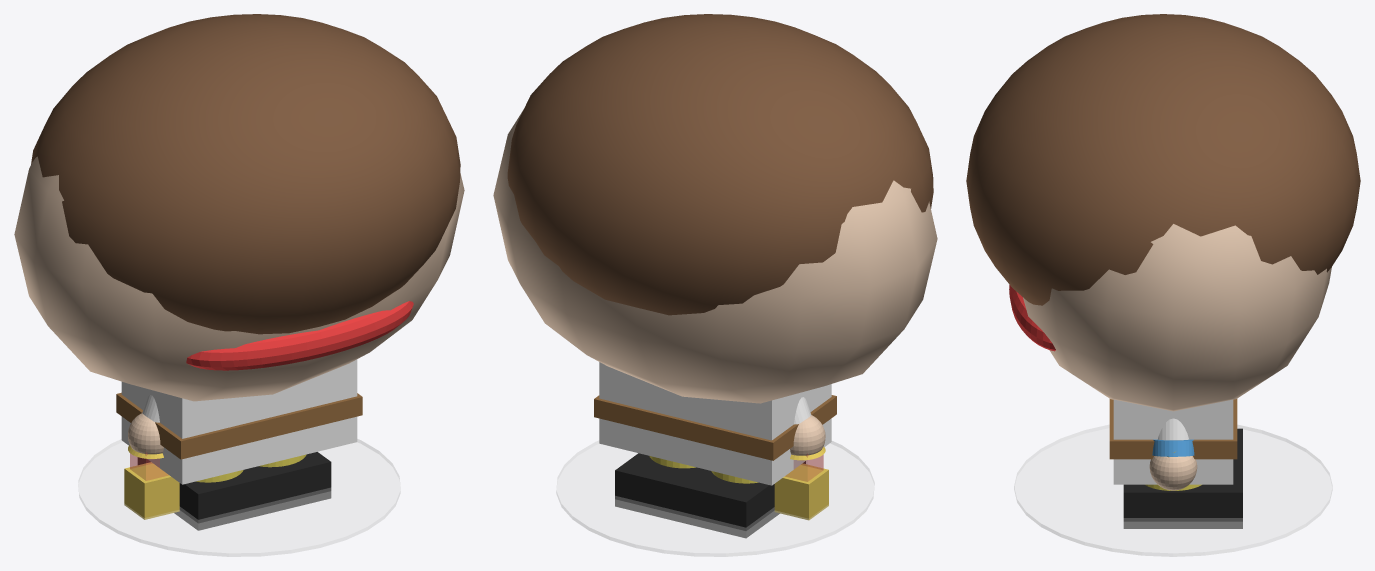
The model's file is custom_funko_pop.glb.
3 renders of one model, left to right at view 1: azimuth 30°, elevation 25°; view 2: azimuth 150°, elevation 25°; view 3: azimuth 270°, elevation 25°, orthographic.
Parts seen in each view (by area): view 1: Sphere, Cube, Cylinder.010, Cube.003, Torus, Cube.004, Cube.006, Cube.007, Cube.008, Sphere.006, Cube.009; view 2: Sphere, Cube, Cylinder.010, Cube.003, Cube.006, Cube.004, Cube.007, Cube.008, Sphere.006, Cube.009; view 3: Sphere, Cube, Cylinder.010, Cube.003, Cube.007, Cube.004, Sphere.007, Torus, Cylinder.008, Cylinder.007.
Part boxes in pixels (left/top/right/bottom): Sphere: left=31, top=14, right=460, bottom=334; Cube: left=14, top=156, right=464, bottom=401; Cylinder.010: left=78, top=439, right=400, bottom=556; Cube.003: left=121, top=359, right=357, bottom=484; Torus: left=186, top=301, right=413, bottom=370; Cube.004: left=116, top=392, right=362, bottom=459; Cube.006: left=137, top=457, right=268, bottom=530; Cube.007: left=248, top=452, right=331, bottom=514; Cube.008: left=124, top=462, right=179, bottom=519; Sphere.006: left=128, top=413, right=163, bottom=459; Cube.009: left=130, top=452, right=168, bottom=480; Sphere: left=507, top=14, right=933, bottom=315; Cube: left=493, top=109, right=937, bottom=403; Cylinder.010: left=556, top=440, right=874, bottom=556; Cube.003: left=599, top=362, right=831, bottom=485; Cube.006: left=677, top=461, right=805, bottom=538; Cube.004: left=594, top=395, right=836, bottom=460; Cube.007: left=615, top=453, right=705, bottom=521; Cube.008: left=774, top=463, right=828, bottom=520; Sphere.006: left=790, top=415, right=825, bottom=460; Cube.009: left=785, top=453, right=823, bottom=481; Sphere: left=966, top=14, right=1360, bottom=305; Cube: left=1023, top=224, right=1331, bottom=411; Cylinder.010: left=1014, top=425, right=1332, bottom=556; Cube.003: left=1113, top=399, right=1233, bottom=484; Cube.007: left=1123, top=459, right=1242, bottom=528; Cube.004: left=1109, top=399, right=1237, bottom=459; Sphere.007: left=1149, top=456, right=1197, bottom=490; Torus: left=1009, top=285, right=1055, bottom=351; Cylinder.008: left=1152, top=439, right=1194, bottom=456; Cylinder.007: left=1157, top=418, right=1189, bottom=440.
Bounding box in the file's own units: 2.35 × 2.52 × 1.98.
